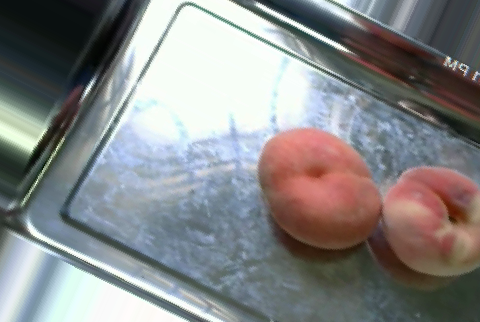Peach: (259, 126, 380, 247), (378, 166, 480, 280)
